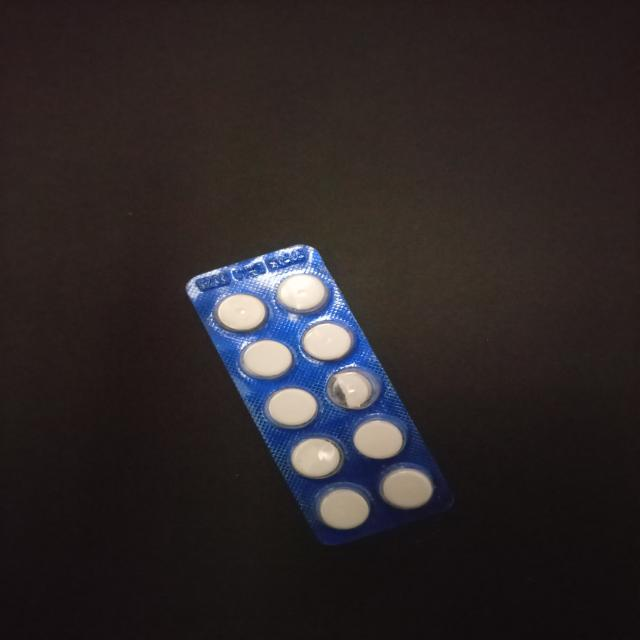defect: (324, 367, 383, 411)
